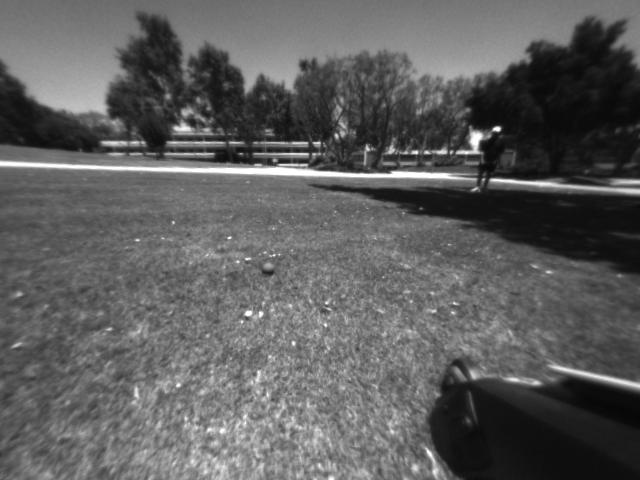dogtoy: (256, 254, 283, 282)
